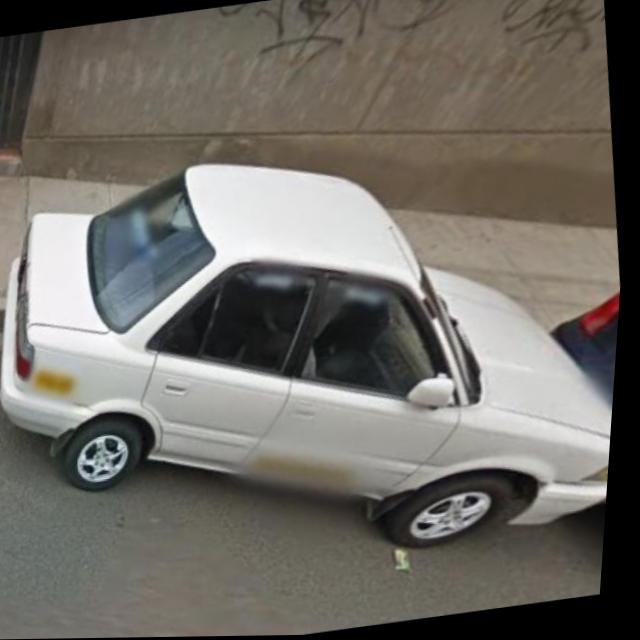vehicle: (0, 97, 635, 613)
